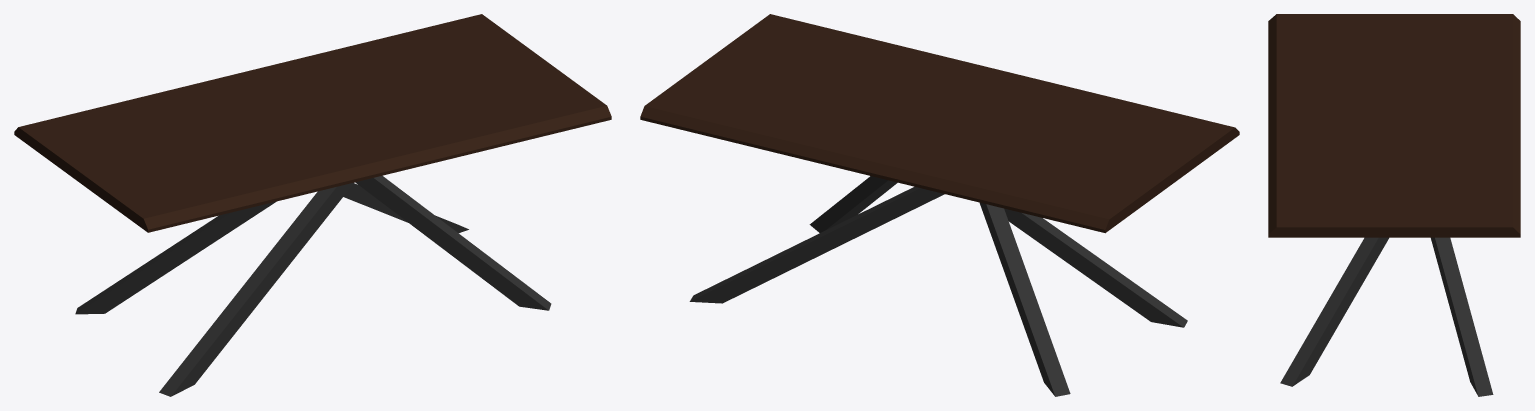
Rendered from table.glb.
3 views of the same model, side by side, from view 1: azimuth 30°, elevation 25°; view 2: azimuth 150°, elevation 25°; view 3: azimuth 270°, elevation 25° (orthographic). The views are drawn at different scales.
Parts seen in each view (by area): view 1: table.001; view 2: table.001; view 3: table.001.
Part boxes in pixels (left/top/right/bottom): table.001: left=14, top=14, right=611, bottom=396; table.001: left=640, top=14, right=1239, bottom=396; table.001: left=1268, top=14, right=1520, bottom=396.
Size of the model in its own units: 1.8 by 0.7227 by 0.9.
